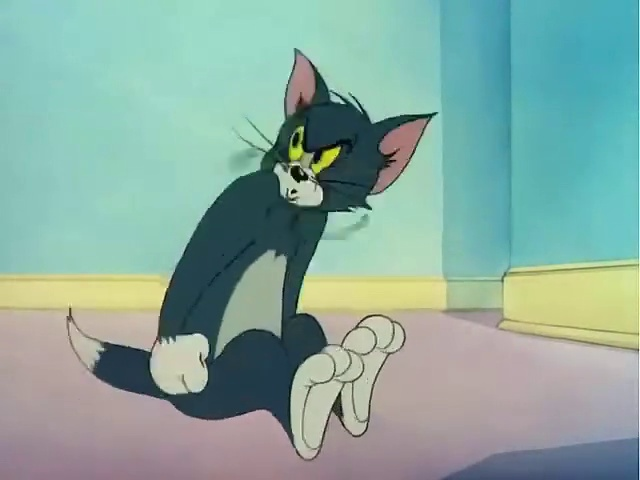tom: (66, 39, 429, 457)
